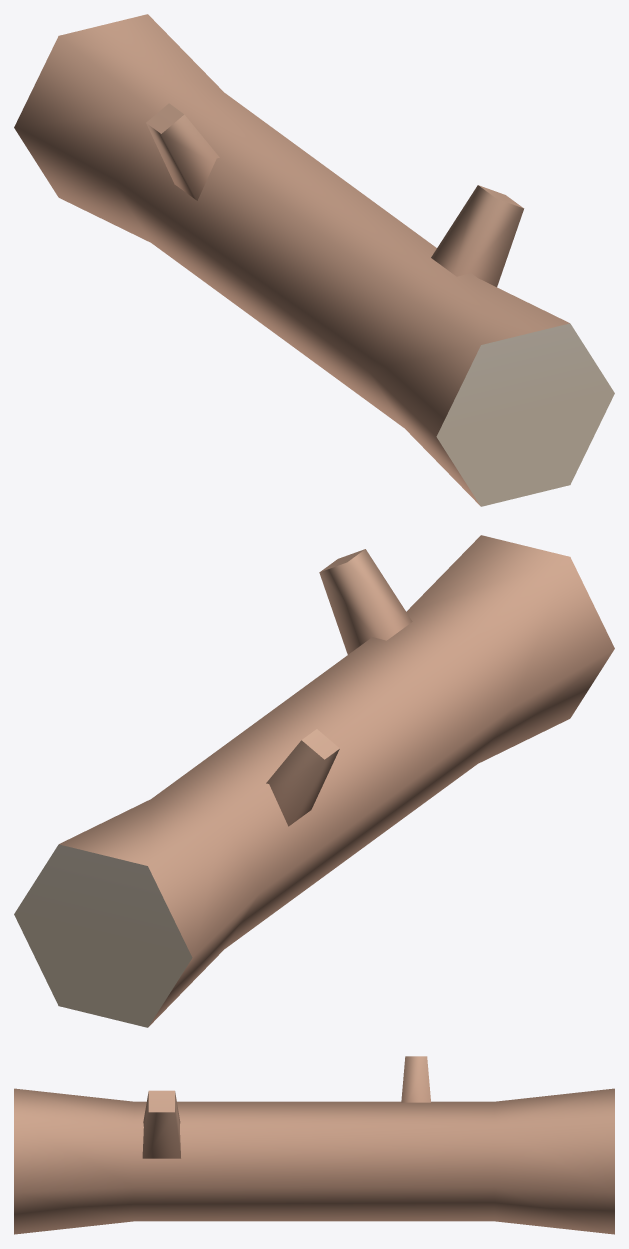
Rendered from tree-log.glb.
3 renders of one model, top to bottom at view 1: azimuth 30°, elevation 25°; view 2: azimuth 150°, elevation 25°; view 3: azimuth 270°, elevation 25°, orthographic. The views are drawn at different scales.
Parts seen in each view (by area): view 1: tree-log; view 2: tree-log; view 3: tree-log.
Boxes of the visible parts, left/top/right/bottom form: tree-log: left=14, top=14, right=614, bottom=506; tree-log: left=14, top=535, right=614, bottom=1027; tree-log: left=14, top=1056, right=614, bottom=1234.
Bounding box in the file's own units: 0.2495 × 0.2771 × 1.
